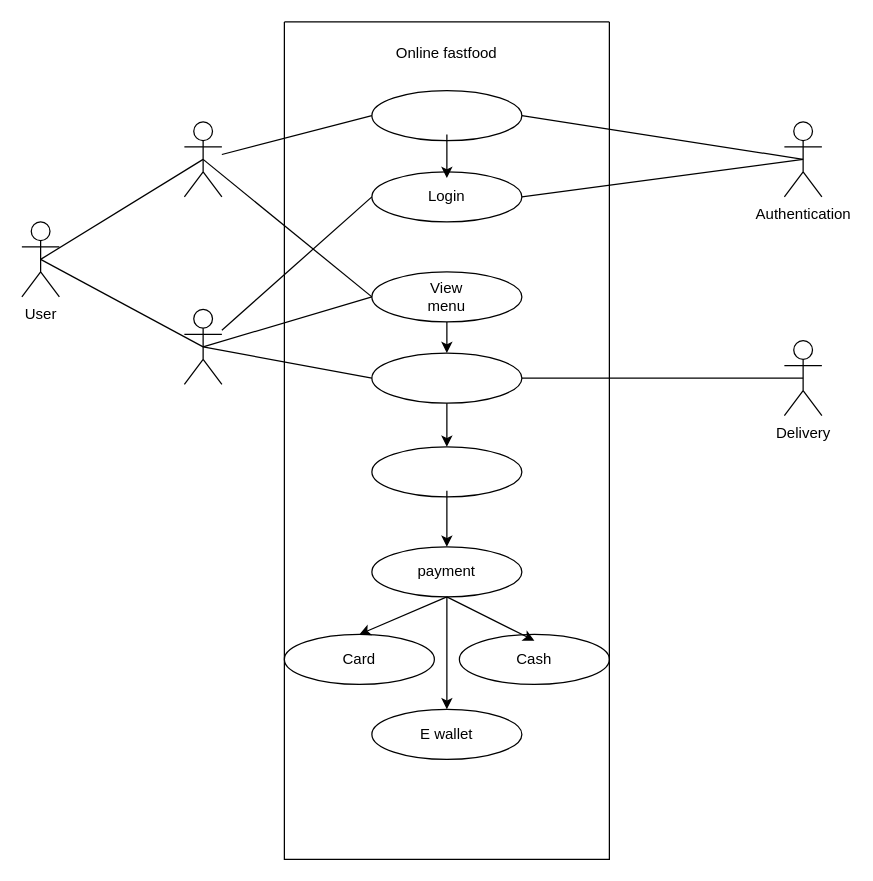
This 873x881 diagram has some shape labels left out. Here are the shapes that lost their labels. From the top down, the centre of each, then its label:
point 446,115: Register
point 202,159: New user
point 202,346: Registered user
point 446,377: Order
point 446,471: Get receipt
